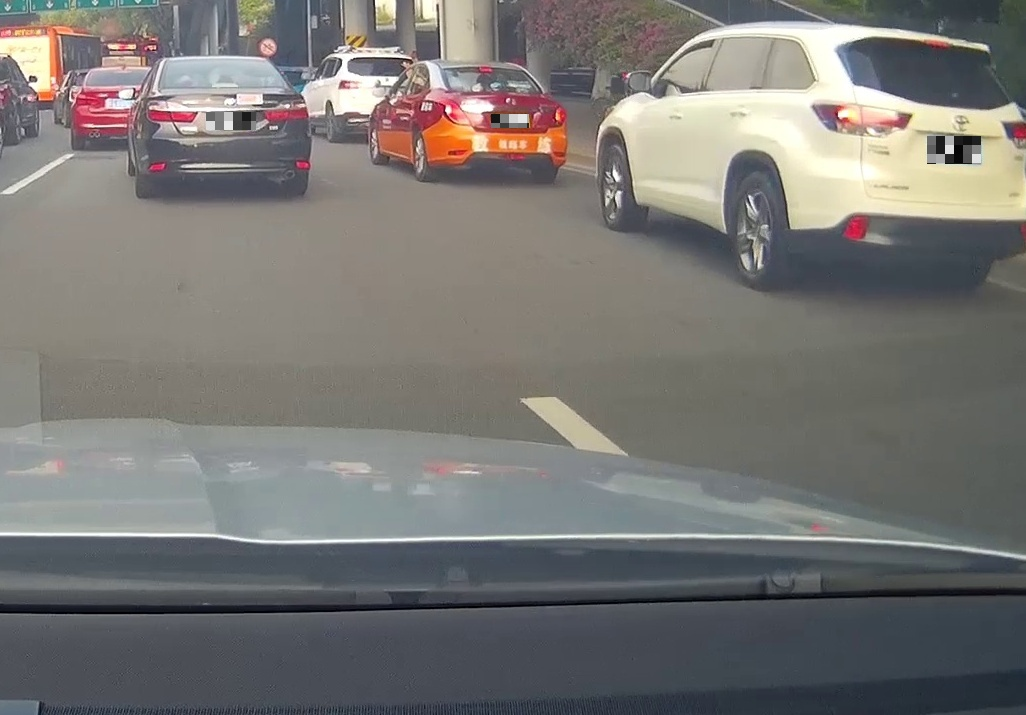L_light: (811, 99, 913, 138), (145, 100, 199, 123), (434, 98, 472, 126)
R_light: (265, 99, 309, 122), (1001, 120, 1025, 150), (547, 103, 566, 128)
T_light: (923, 39, 951, 49), (211, 82, 239, 87), (478, 67, 493, 72)
day-brake: (808, 26, 1026, 290), (430, 60, 567, 182)
day-no: (136, 56, 312, 198)
plate_1: (206, 112, 256, 130)
plate_2: (491, 114, 529, 128)
plate_3: (927, 136, 981, 164)
